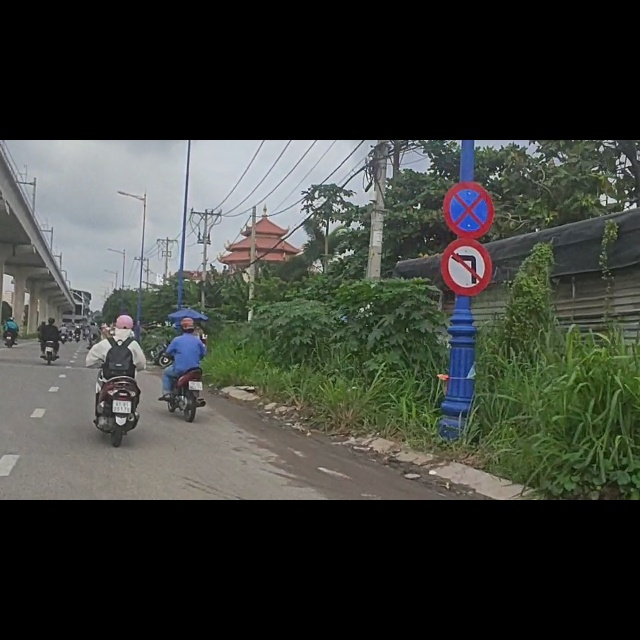bien_cam: (441, 175, 493, 276), (443, 73, 494, 173)
